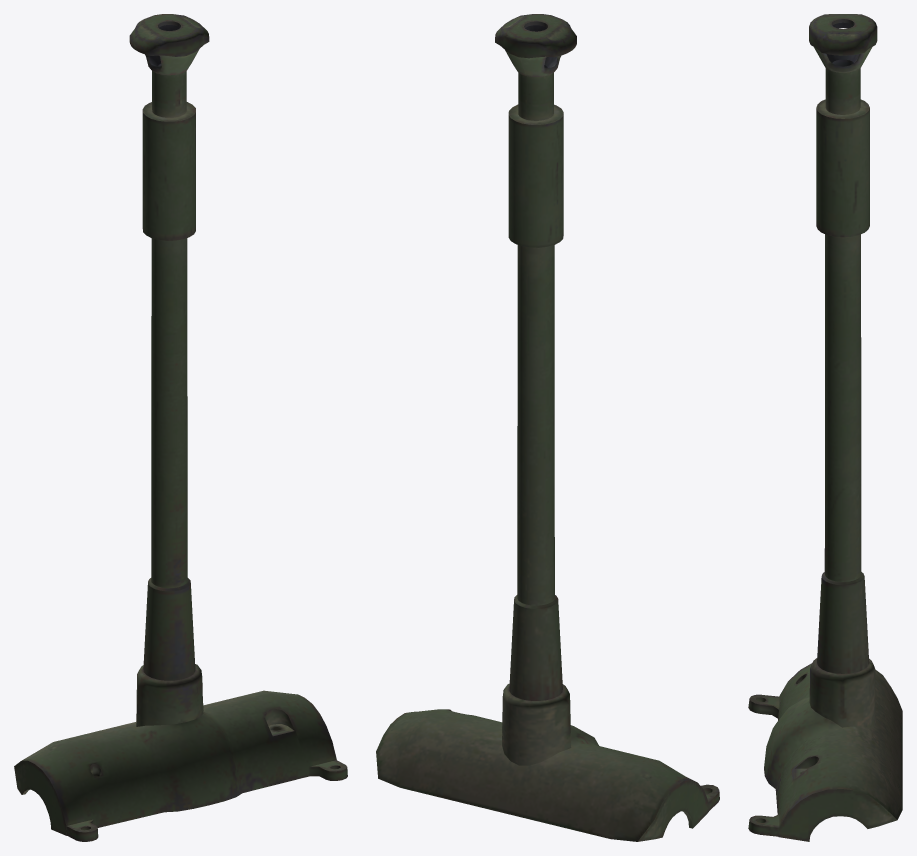
Rendered from Gun_01.glb.
The picture shows the model from 3 angles, left to right: view 1: azimuth 30°, elevation 25°; view 2: azimuth 150°, elevation 25°; view 3: azimuth 270°, elevation 25°; orthographic projection. The views are drawn at different scales.
Parts seen in each view (by area): view 1: set_0_group_0; view 2: set_0_group_0; view 3: set_0_group_0.
Boxes of the visible parts, x1,y1,x2,y2 form: set_0_group_0: (14, 14, 347, 841); set_0_group_0: (376, 14, 719, 841); set_0_group_0: (748, 14, 902, 841).
Size of the model in its own units: 1.36 by 3.64 by 0.6768.
1 material, 1 textured.
